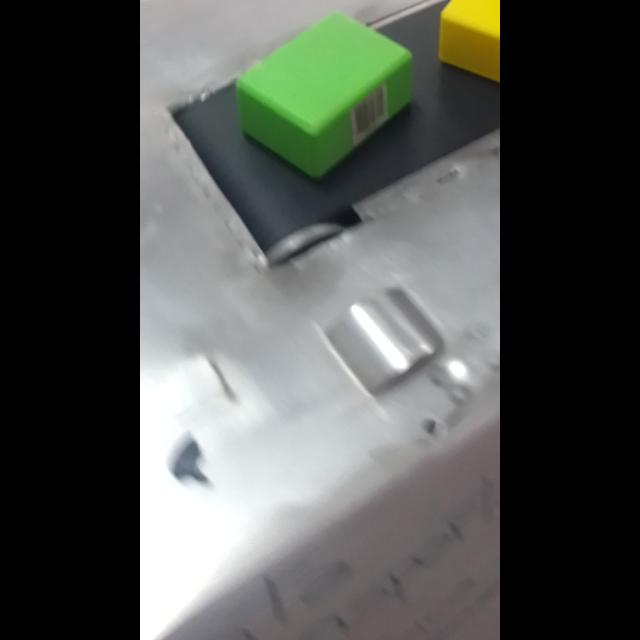greenBox: (222, 1, 434, 197)
yellowBox: (424, 0, 500, 106)
